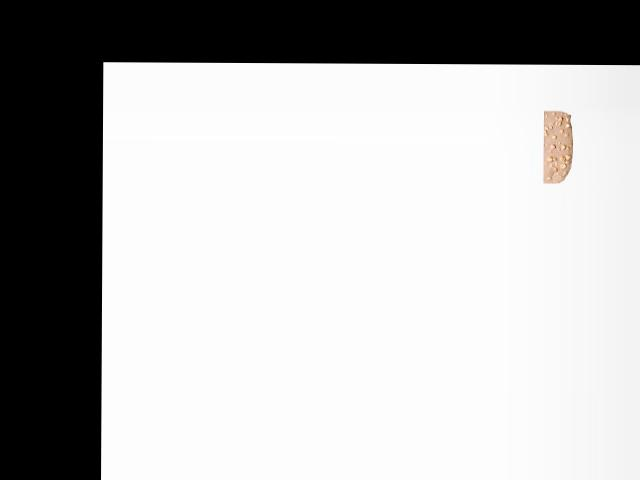chocolate: (540, 111, 578, 183)
